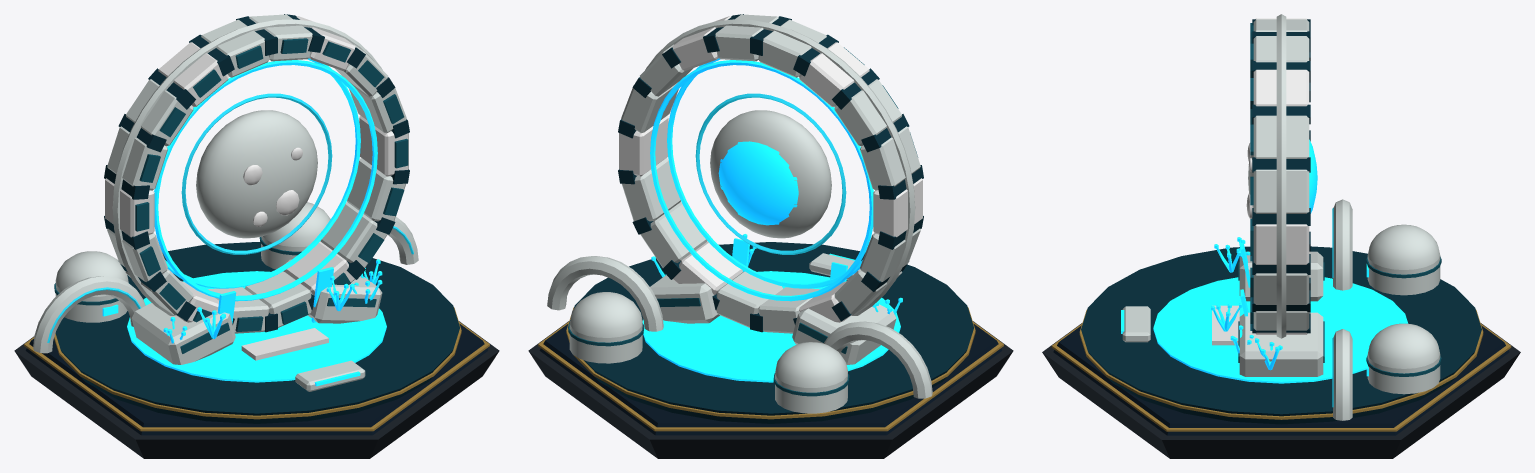
File: poseidon_moonwell_tidegate.glb
3 views of the same model, side by side, from view 1: azimuth 30°, elevation 25°; view 2: azimuth 150°, elevation 25°; view 3: azimuth 270°, elevation 25° (orthographic).
Visible parts, largest first — view 1: poseidon_moonwell_tidegate; view 2: poseidon_moonwell_tidegate; view 3: poseidon_moonwell_tidegate.
Part boxes in pixels (left/top/right/bottom): poseidon_moonwell_tidegate: left=14, top=14, right=499, bottom=458; poseidon_moonwell_tidegate: left=528, top=14, right=1013, bottom=458; poseidon_moonwell_tidegate: left=1042, top=14, right=1520, bottom=458.
Bounding box in the file's own units: 1.57 × 1.38 × 1.72.
1 material, 1 textured.
